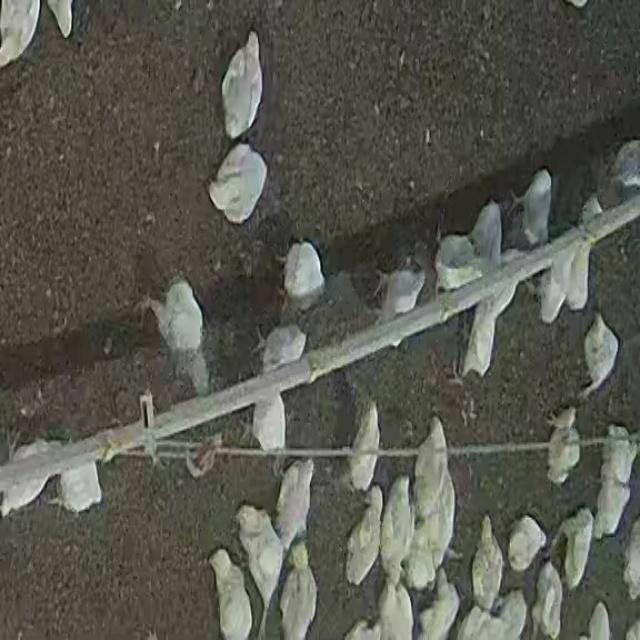chicken: (148, 280, 209, 393), (240, 504, 282, 636), (207, 139, 268, 225), (219, 32, 264, 135), (372, 262, 427, 342), (0, 439, 54, 518), (209, 546, 253, 640), (274, 460, 316, 558), (454, 296, 504, 377), (412, 490, 461, 572), (342, 486, 384, 580), (582, 311, 622, 403), (509, 168, 554, 248), (537, 235, 577, 324), (408, 424, 450, 508), (379, 482, 412, 584), (276, 247, 329, 309), (348, 400, 382, 495), (412, 573, 460, 640), (282, 550, 318, 637), (52, 455, 104, 514), (432, 233, 481, 292), (250, 327, 306, 378), (1, 1, 43, 68), (560, 503, 590, 590), (589, 481, 630, 544), (506, 514, 547, 575), (469, 200, 504, 270), (531, 567, 565, 639), (472, 521, 502, 601), (251, 393, 288, 456), (602, 422, 637, 488), (607, 139, 640, 206), (491, 586, 529, 640), (552, 411, 580, 478), (380, 585, 412, 640), (464, 605, 503, 640), (584, 598, 615, 640)
